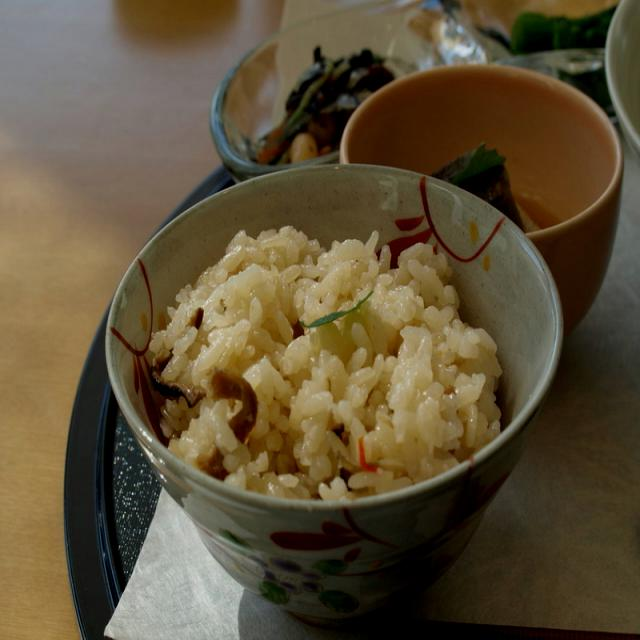rice: (148, 206, 486, 518)
